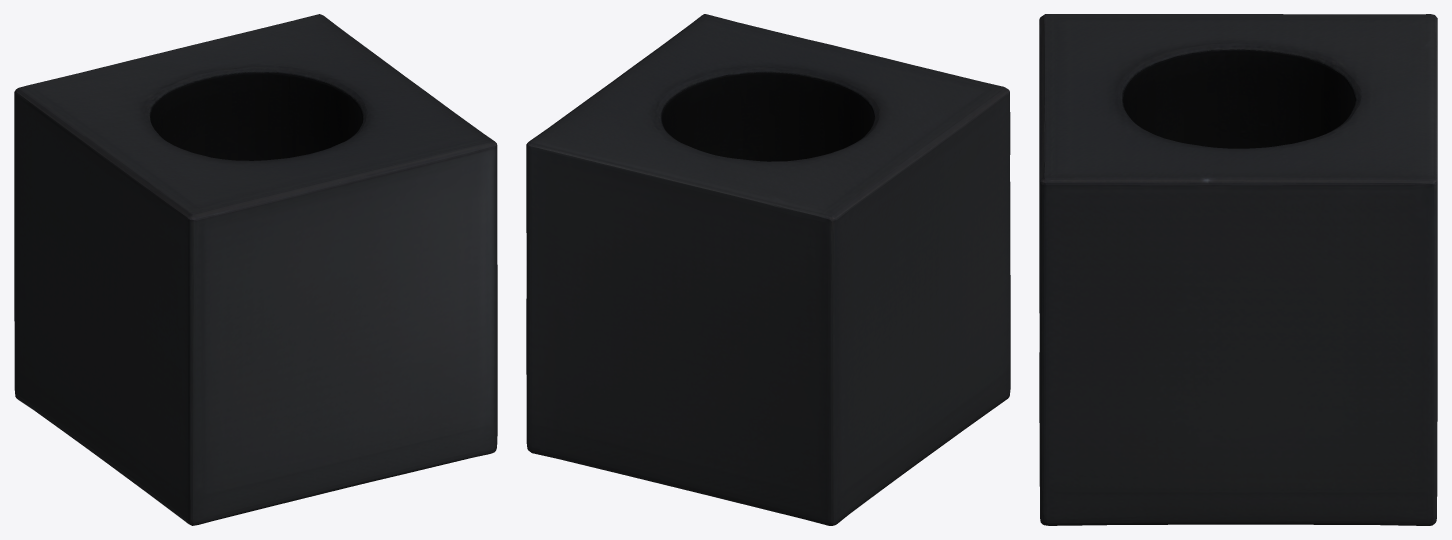
File: obj2_cad_scaled.glb
3 views of the same model, side by side, from view 1: azimuth 30°, elevation 25°; view 2: azimuth 150°, elevation 25°; view 3: azimuth 270°, elevation 25° (orthographic). The views are drawn at different scales.
Parts seen in each view (by area): view 1: world; view 2: world; view 3: world.
Part boxes in pixels (x1,y1,x2,y2): world: (14,14,497,525); world: (526,14,1010,525); world: (1039,14,1437,525).
Size of the model in its own units: 0.0505 by 0.0487 by 0.0504.
1 material, 1 textured.
